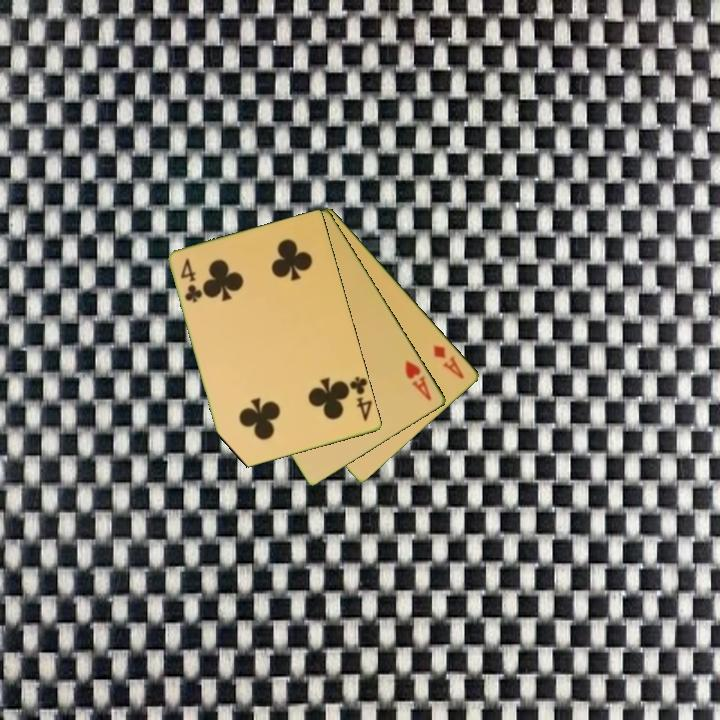4c: (346, 373, 375, 424), (177, 255, 205, 306)
Ad: (430, 341, 467, 382)
Ah: (402, 357, 435, 404)
